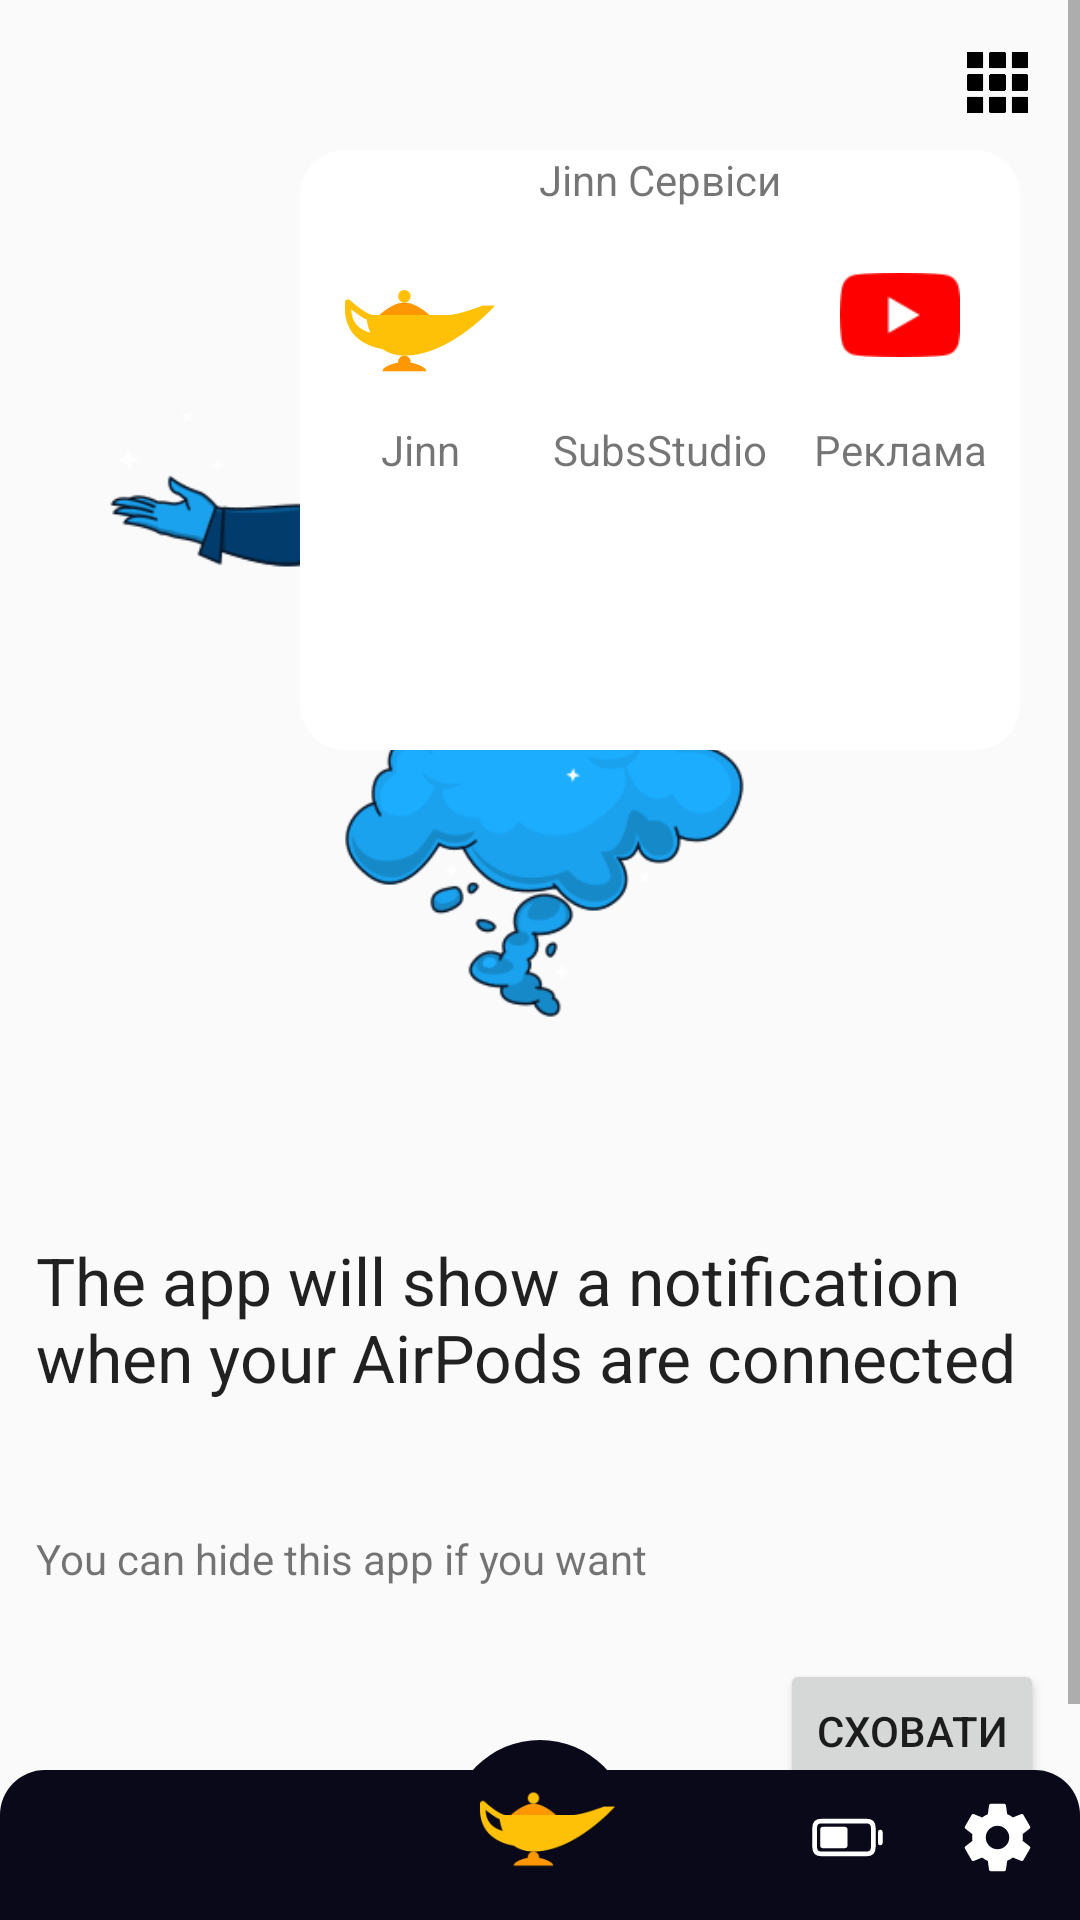

Locate icon controls on the screen. Image size 1080 × 1920, boxes as (x1, y1, x2, y2).
apps sharp: (967, 52, 1028, 113)
battery half: (812, 1818, 883, 1857)
settings sharp: (964, 1803, 1031, 1872)
